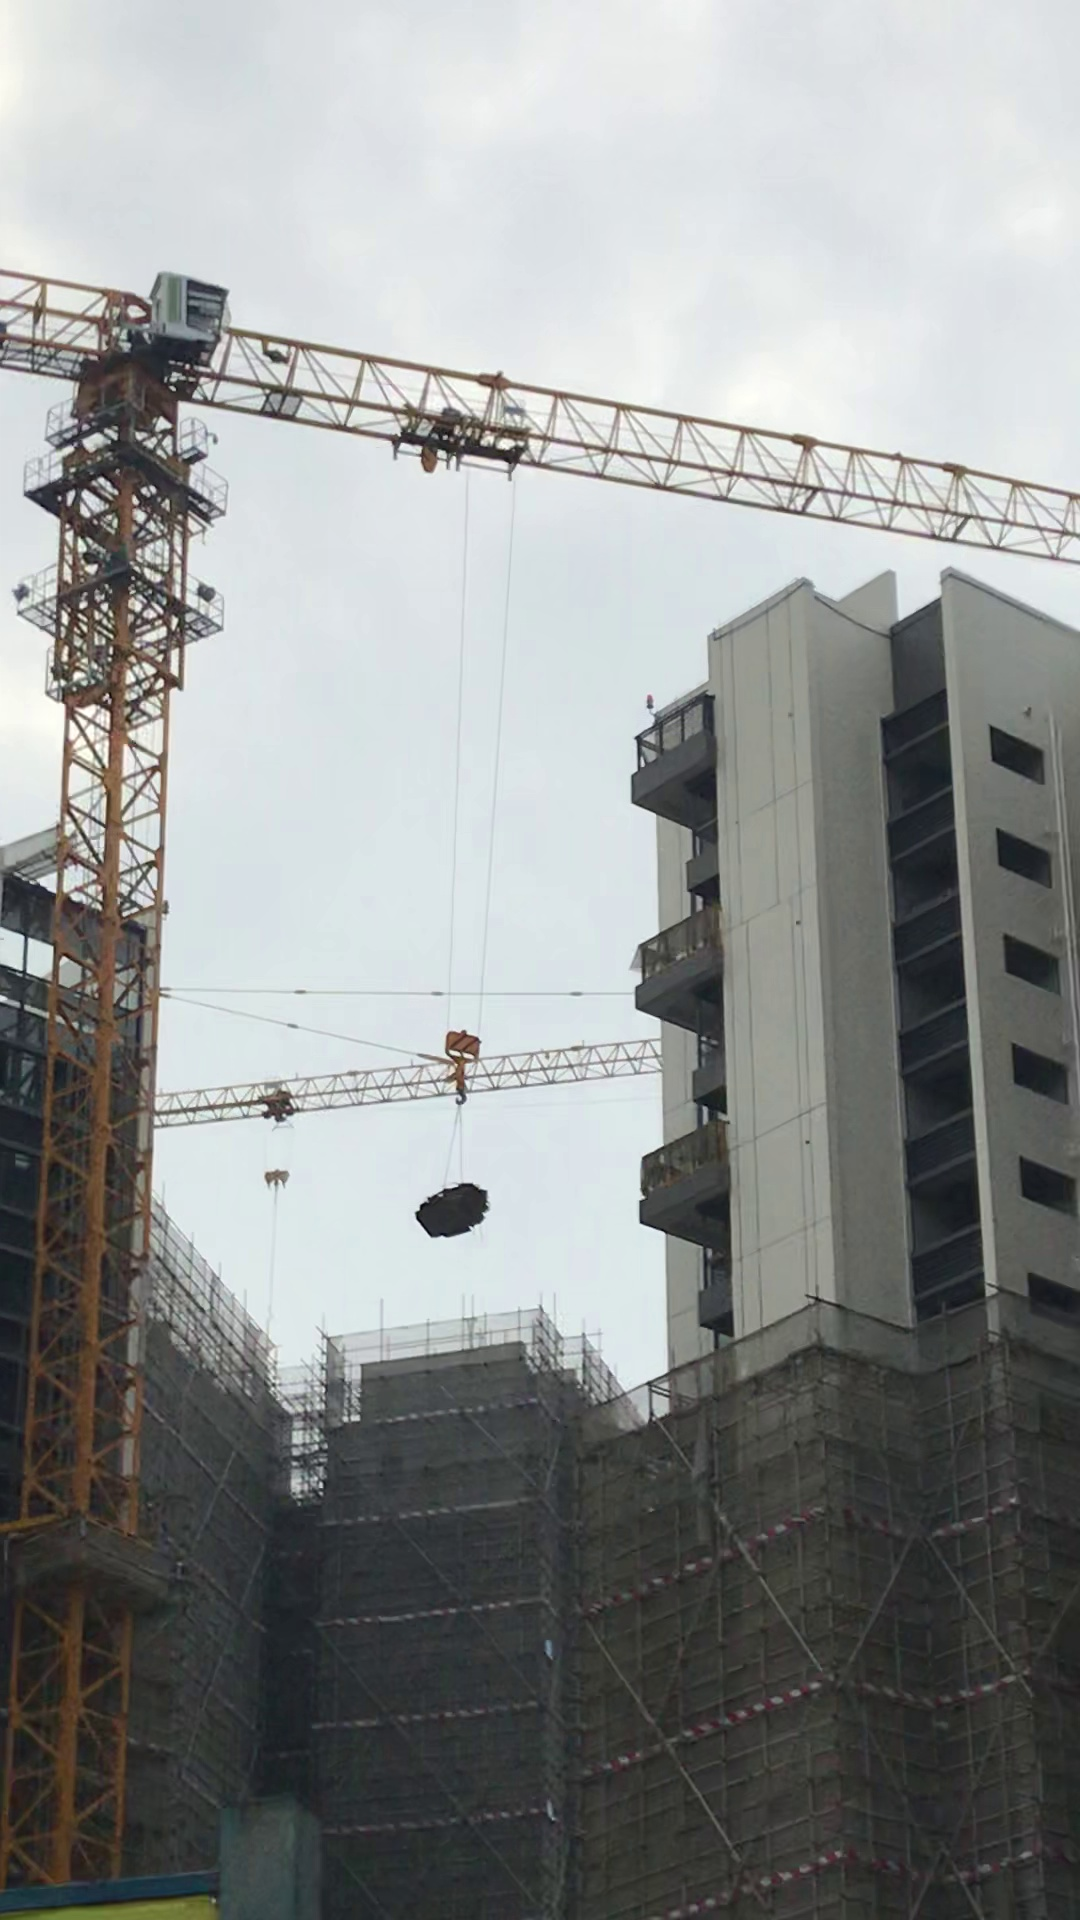hook: (442, 1017, 496, 1118)
